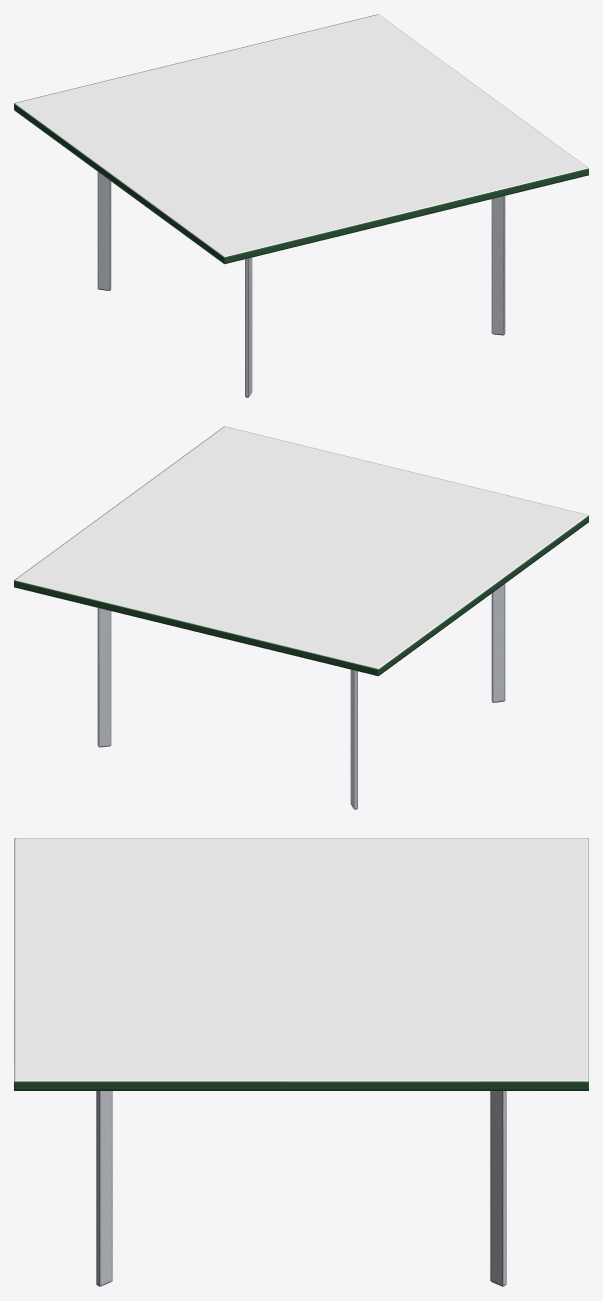
Rendered from Barcelona Table.fbx.
The picture shows the model from 3 angles, top to bottom: view 1: azimuth 30°, elevation 25°; view 2: azimuth 150°, elevation 25°; view 3: azimuth 270°, elevation 25°; orthographic projection. The views are drawn at different scales.
Visible parts, largest first — view 1: Barcelona_Table; view 2: Barcelona_Table; view 3: Barcelona_Table.
Boxes of the visible parts, x1=… form: Barcelona_Table: x1=14, y1=14, x2=588, y2=397; Barcelona_Table: x1=14, y1=426, x2=588, y2=809; Barcelona_Table: x1=14, y1=838, x2=588, y2=1286.
Bounding box in the file's own units: 102 × 46.99 × 102.
1 material, 1 textured.
